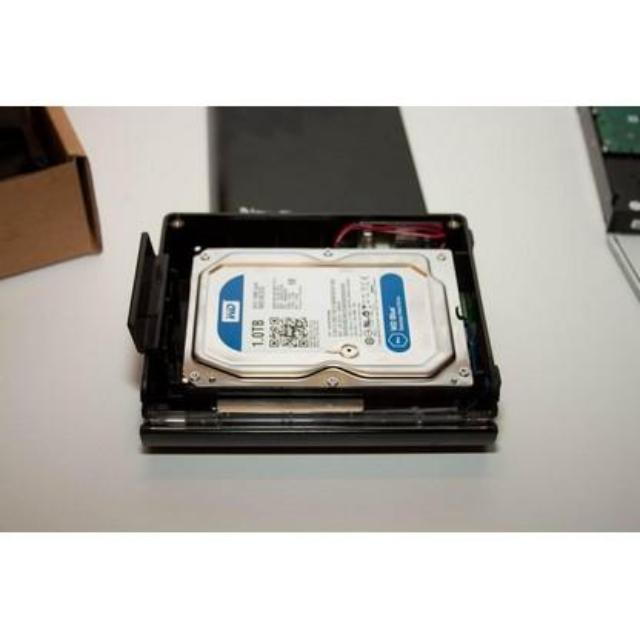DISK: (195, 252, 450, 382)
